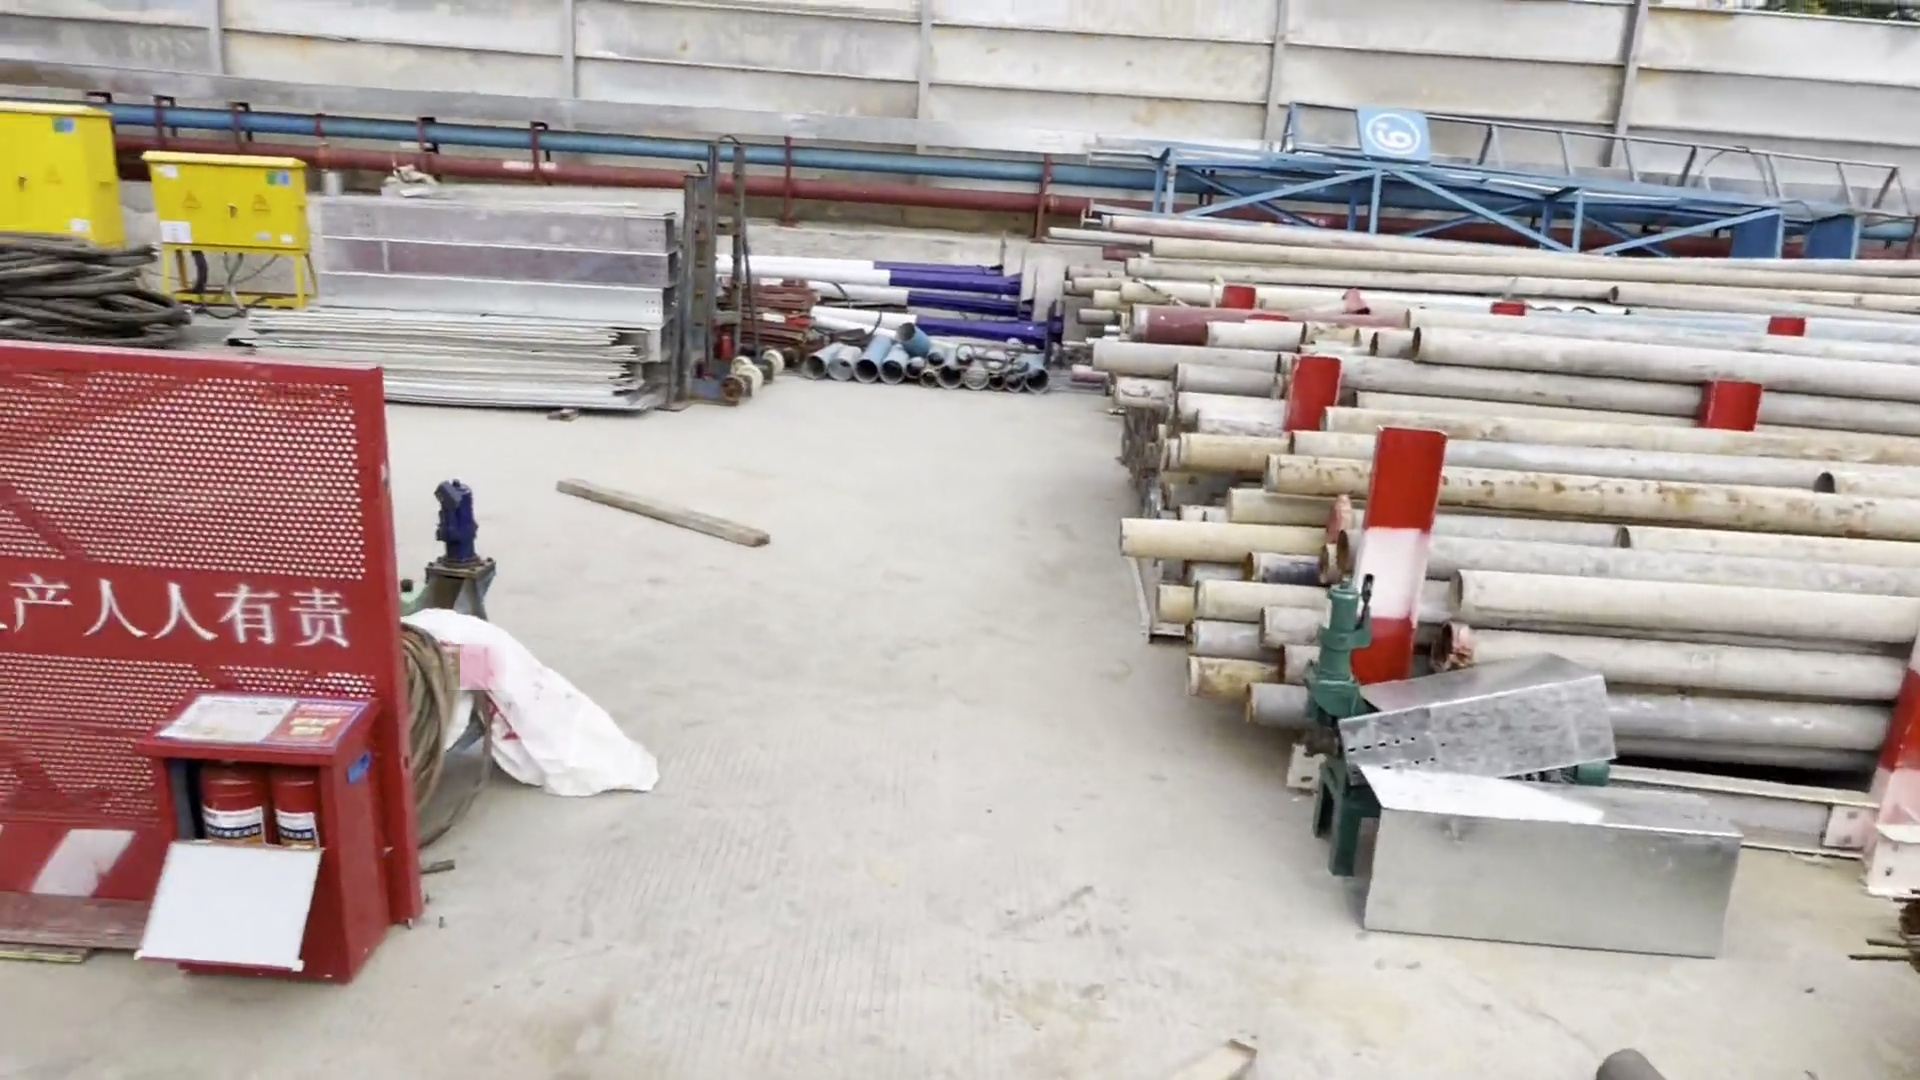ebox: (142, 146, 306, 305), (4, 105, 123, 266)
fence: (3, 345, 414, 940)
